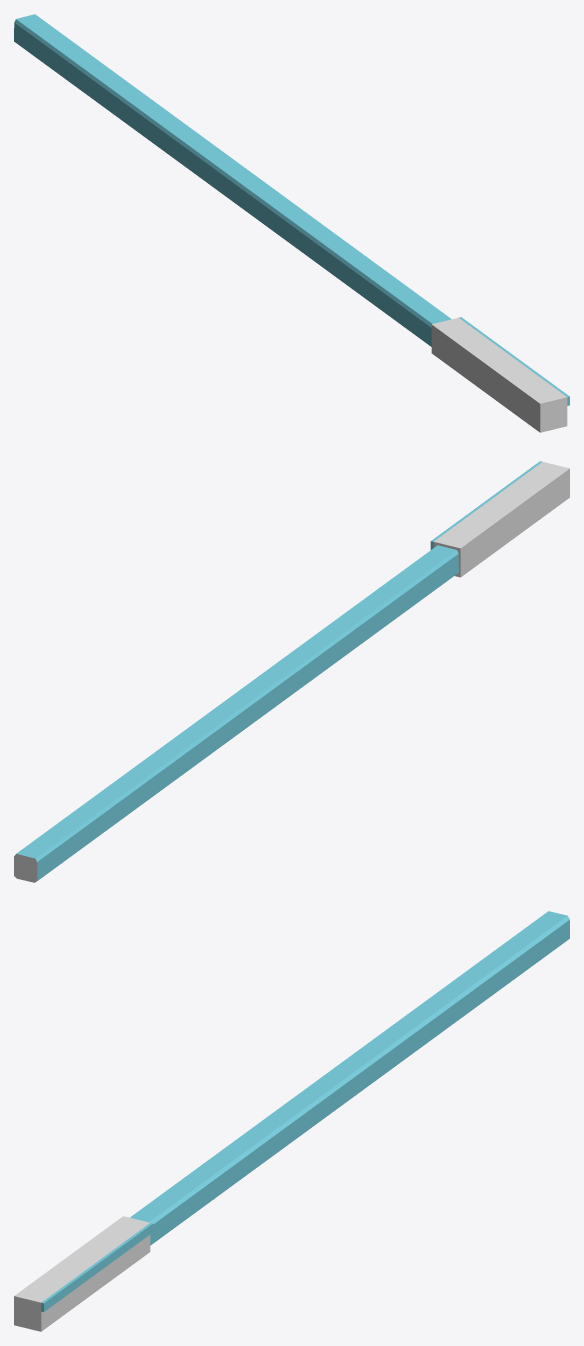
File: saber.fbx
3 renders of one model, top to bottom at view 1: azimuth 30°, elevation 25°; view 2: azimuth 150°, elevation 25°; view 3: azimuth 330°, elevation 25°, orthographic.
Parts seen in each view (by area): view 1: Cube; view 2: Cube; view 3: Cube.
Part boxes in pixels (x1,y1,x2,y2): Cube: (14, 14, 569, 432); Cube: (14, 461, 569, 882); Cube: (14, 911, 569, 1331).
Bounding box in the file's own units: 215 × 200 × 6601.
